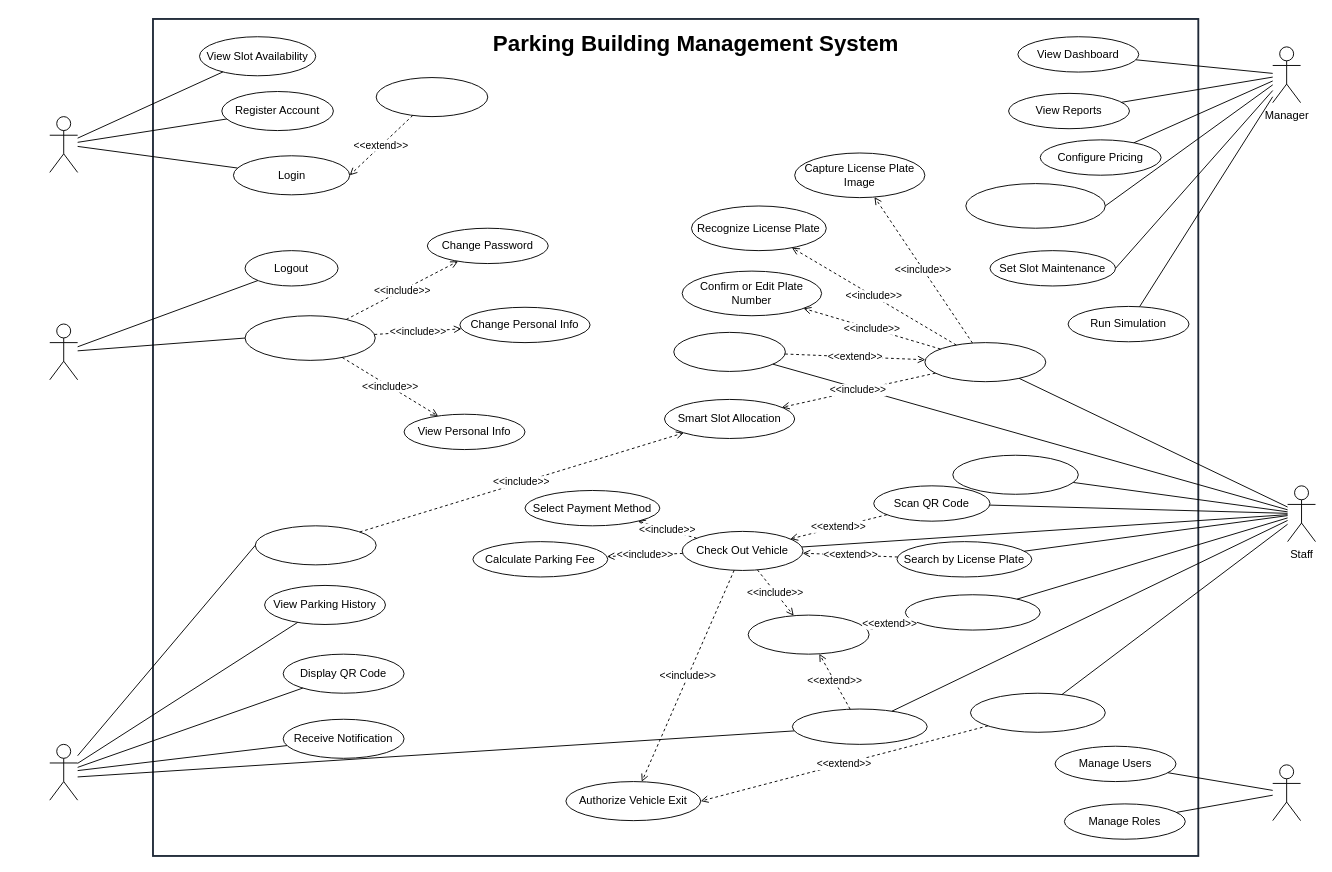
Some shapes in this 1332 by 872 pixel diagram are drawn without their labels. The box of each missing label's shape, as (x1, y1, x2, y2) in pixels:
Admin: (1272, 764, 1301, 821)
Authenticated User: (49, 323, 78, 380)
Check In Vehicle: (924, 342, 1046, 382)
Configure Allocation Strategy: (965, 183, 1105, 228)
Confirm Cash Payment: (904, 594, 1040, 630)
Confirm Vehicle Exited: (970, 692, 1105, 732)
Driver: (49, 743, 78, 800)
Guest: (49, 116, 78, 172)
Handle Lost Ticket: (952, 454, 1078, 494)
Make Reservation: (254, 525, 376, 565)
Manage Personal Account: (244, 315, 375, 360)
Manual Plate Input: (673, 331, 785, 371)
Pay by Bank/QR: (791, 708, 927, 744)
Process Payment: (747, 614, 869, 654)
Reset Password: (375, 77, 488, 117)
